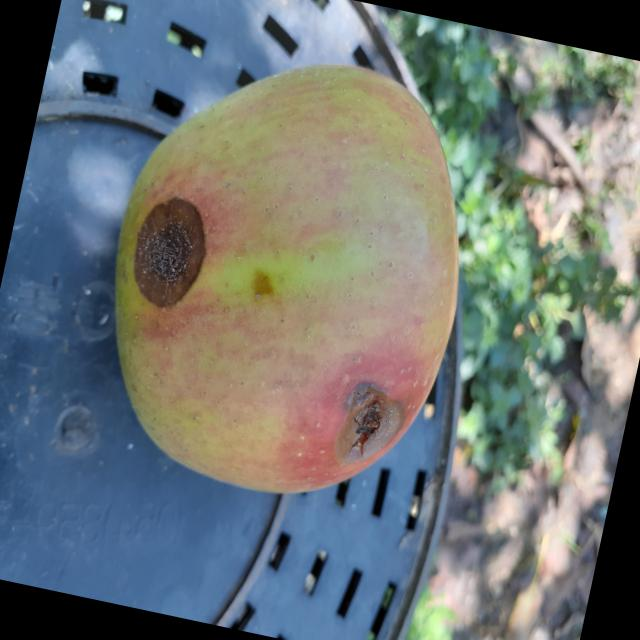rotten: (64, 15, 512, 535)
